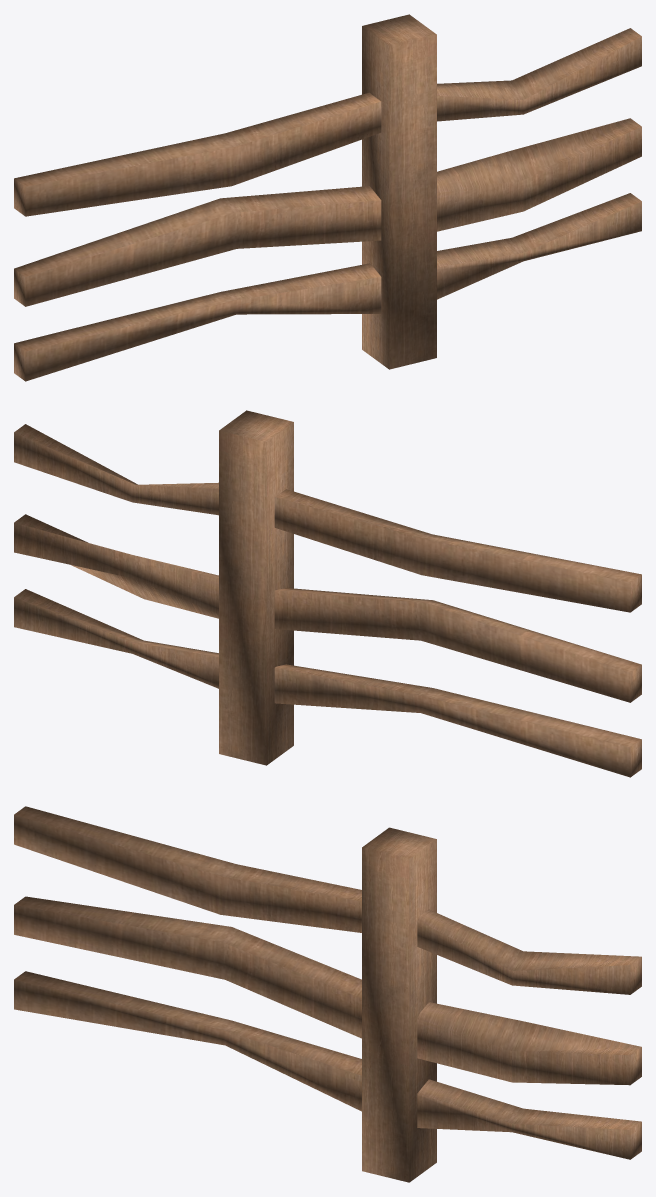
3 renders of one model, top to bottom at view 1: azimuth 30°, elevation 25°; view 2: azimuth 150°, elevation 25°; view 3: azimuth 330°, elevation 25°, orthographic.
Visible parts, largest first — view 1: Cube160_Wood_02001_0; view 2: Cube160_Wood_02001_0; view 3: Cube160_Wood_02001_0.
Boxes of the visible parts, bbox=[...] form: Cube160_Wood_02001_0: bbox=[14, 14, 641, 381]; Cube160_Wood_02001_0: bbox=[14, 410, 641, 777]; Cube160_Wood_02001_0: bbox=[14, 806, 641, 1182].
Size of the model in its own units: 2.59 by 1.3 by 0.2.
Materials: 1 (1 with a texture image).
